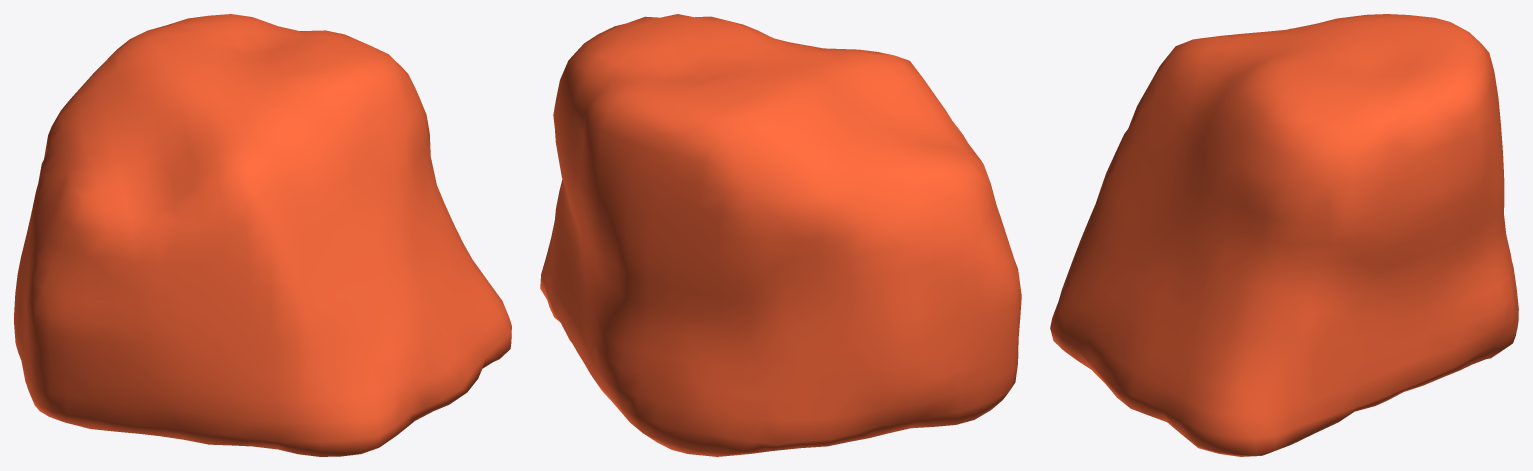
3 views of the same model, side by side, from view 1: azimuth 30°, elevation 25°; view 2: azimuth 150°, elevation 25°; view 3: azimuth 270°, elevation 25° (orthographic). The views are drawn at different scales.
Parts seen in each view (by area): view 1: Roca31; view 2: Roca31; view 3: Roca31.
Part boxes in pixels (left/top/right/bottom): Roca31: left=14, top=14, right=511, bottom=456; Roca31: left=540, top=14, right=1021, bottom=456; Roca31: left=1050, top=14, right=1518, bottom=456.
Size of the model in its own units: 207 by 132 by 179.
